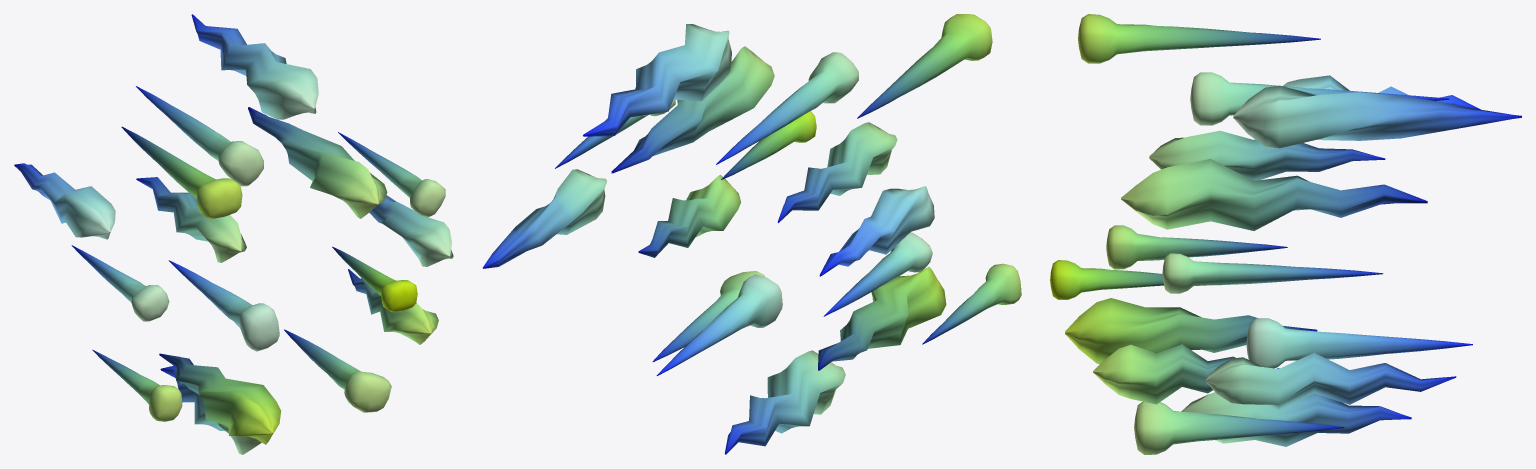
Rendered from vfx_fist_rapid_barrage.glb.
3 views of the same model, side by side, from view 1: azimuth 30°, elevation 25°; view 2: azimuth 150°, elevation 25°; view 3: azimuth 270°, elevation 25° (orthographic). The views are drawn at different scales.
Visible parts, largest first — view 1: fist_rapid_barrage_core; view 2: fist_rapid_barrage_core; view 3: fist_rapid_barrage_core.
Boxes of the visible parts, x1=… form: fist_rapid_barrage_core: x1=14, y1=14, x2=453, y2=454; fist_rapid_barrage_core: x1=483, y1=14, x2=1021, y2=454; fist_rapid_barrage_core: x1=1050, y1=14, x2=1521, y2=454.
Size of the model in its own units: 1.7 by 1.57 by 1.68.
